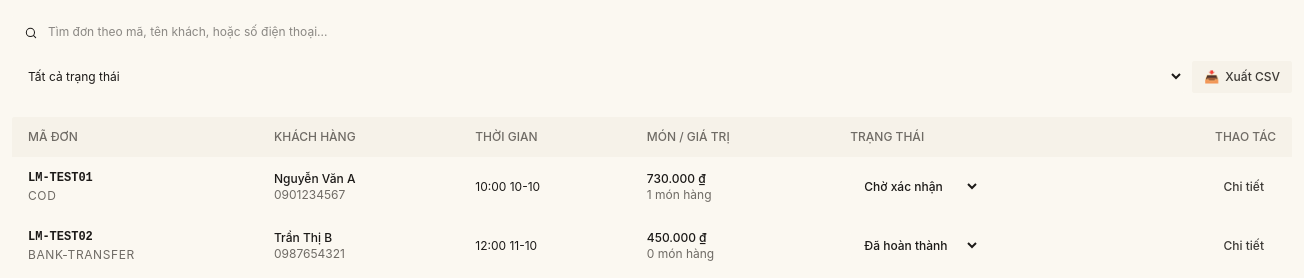
Test: AdminOrdersTab › lọc đơn hàng theo từ khóa tìm kiếm
Type "Trần Thị" into the field with placeholder "Tìm đơn theo mã, tên khách, hoặc số điện thoại...". click: x=652, y=32
box: [12,16,1292,48]
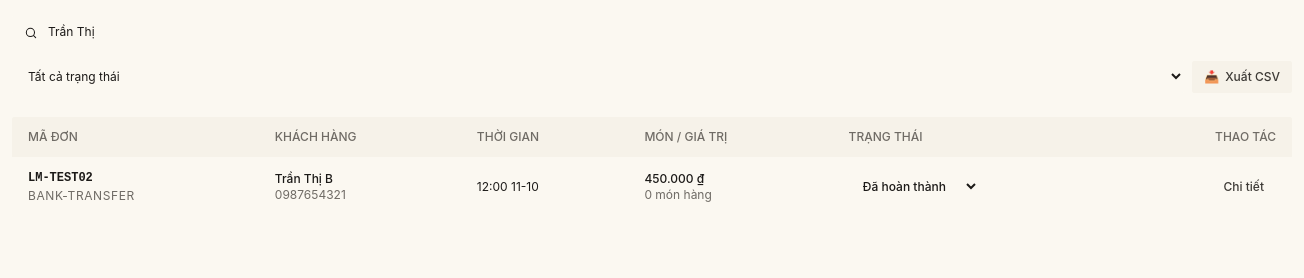
Expected: the text "LM-TEST02" is shown, [28,171,93,185]
Now the text "LM-TEST01" is gone
